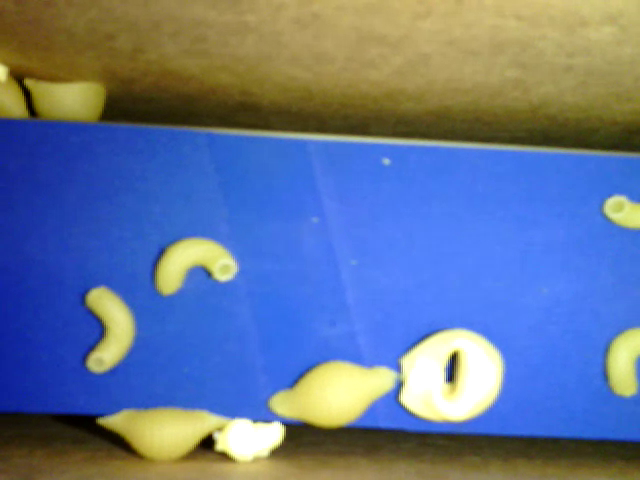elbow: (81, 284, 143, 376), (155, 234, 238, 294), (609, 325, 638, 399), (598, 188, 639, 229)
shell: (268, 362, 401, 429), (96, 403, 232, 462), (23, 74, 108, 127)
tortellini: (392, 319, 505, 421)
